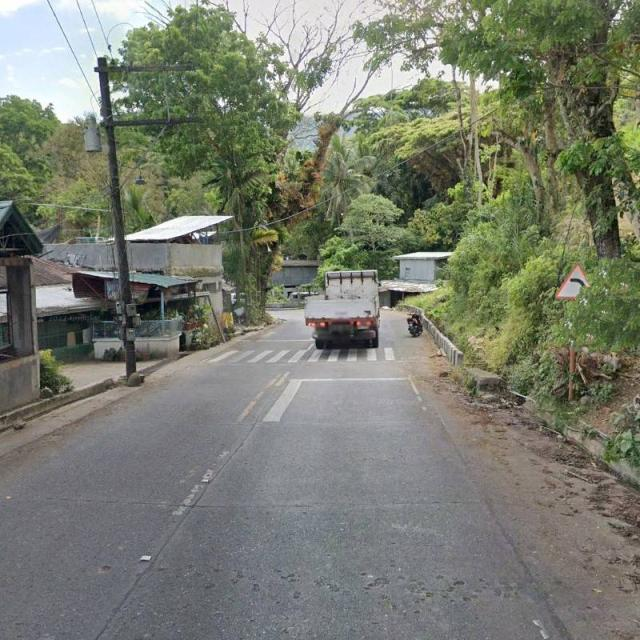warn_left_curve: (555, 262, 597, 300)
